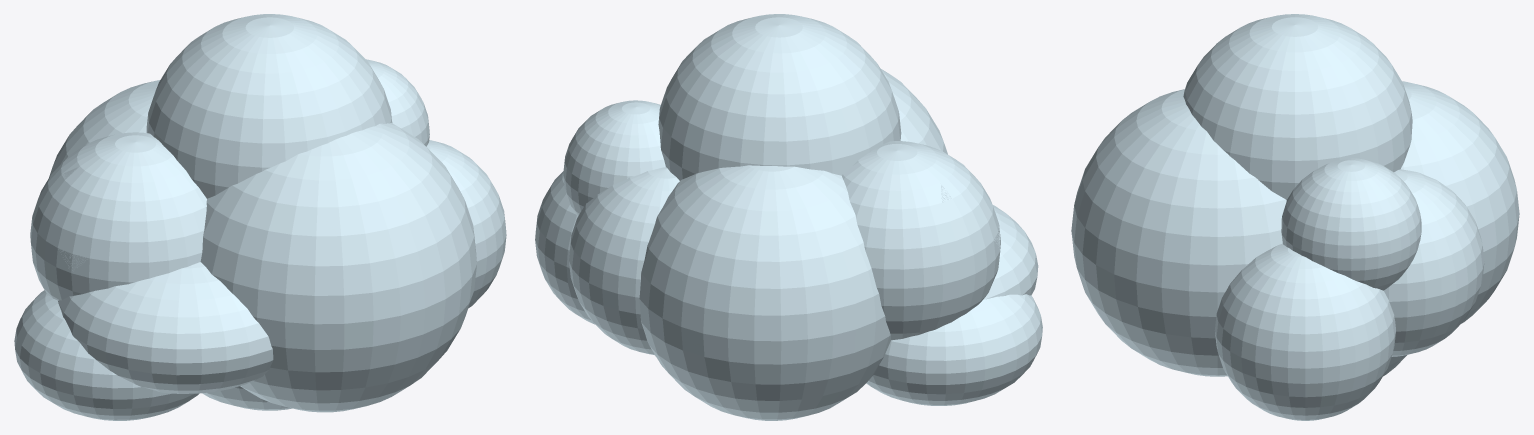
Rendered from cloud.glb.
3 views of the same model, side by side, from view 1: azimuth 30°, elevation 25°; view 2: azimuth 150°, elevation 25°; view 3: azimuth 270°, elevation 25° (orthographic). The views are drawn at different scales.
Parts seen in each view (by area): view 1: Sphere; view 2: Sphere; view 3: Sphere.
Part boxes in pixels (x1,y1,x2,y2): Sphere: (14,14,506,420); Sphere: (535,14,1042,420); Sphere: (1071,14,1519,420).
Bounding box in the file's own units: 2.82 × 2.13 × 2.4.
Materials: 1 (1 with a texture image).
